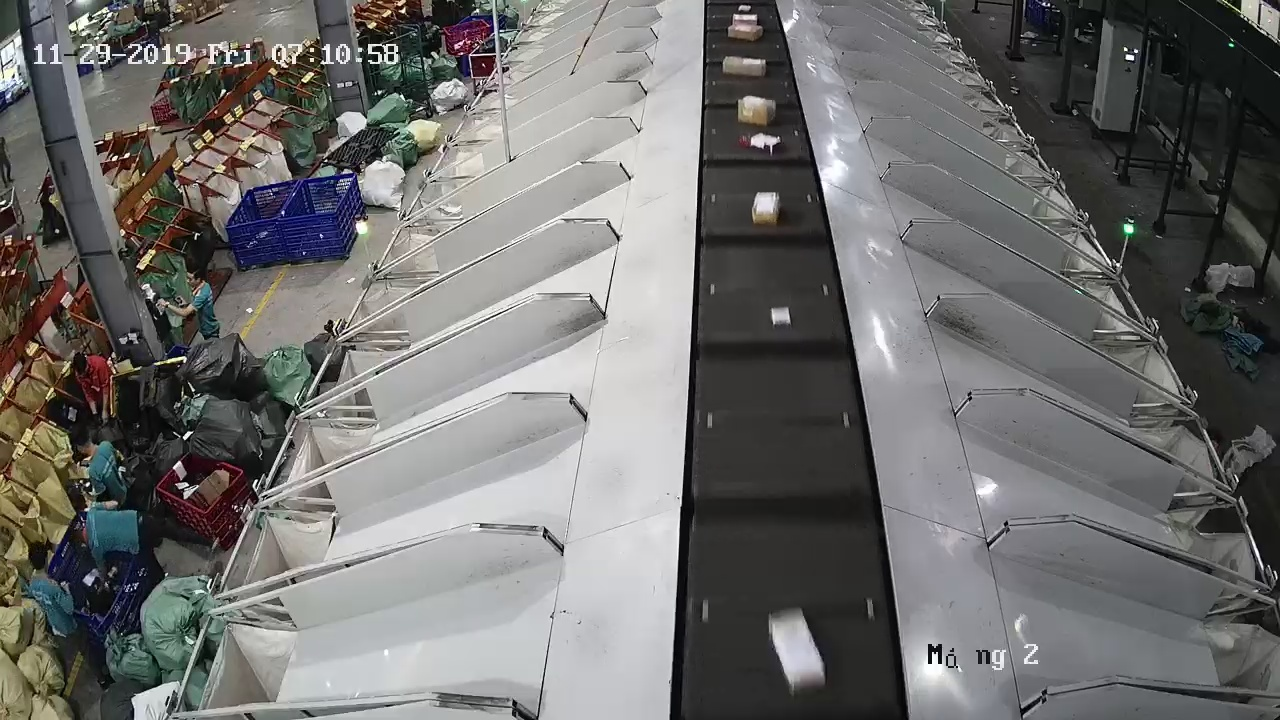parcel: (769, 608, 826, 694), (751, 191, 781, 225), (770, 306, 791, 329)
